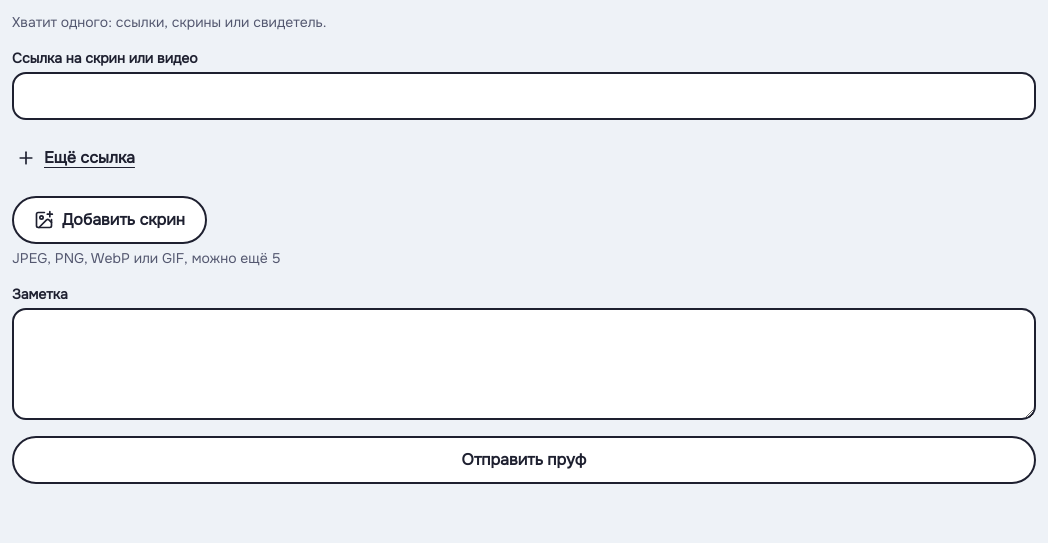
Test case: Screenshots in the proof › still asks for a link, a screenshot or a witness when nothing is given
Click the button with test id "proof-submit" at (524, 460), box [12, 436, 1036, 484]
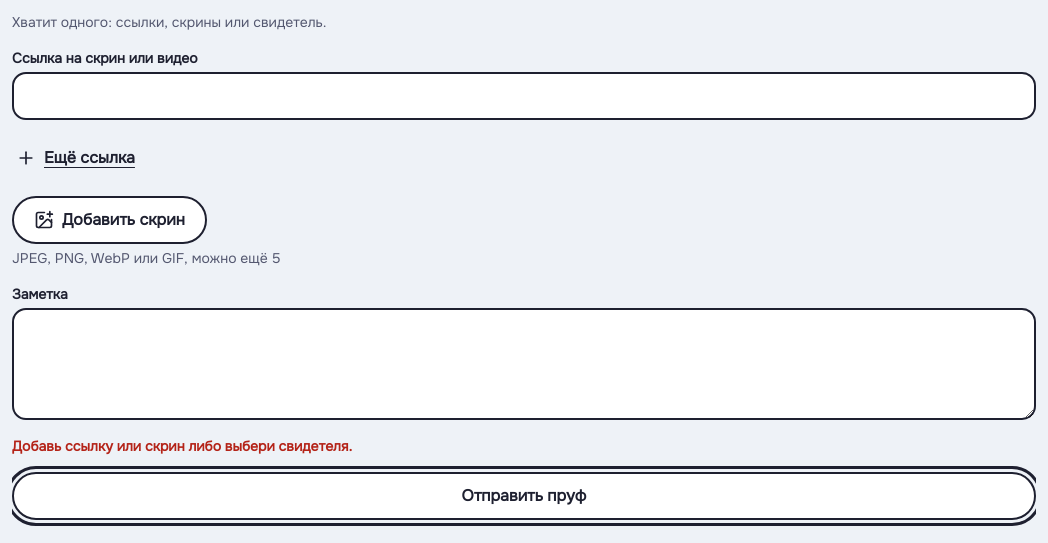
Expected: the message reads "Добавь ссылку или скрин либо выбери свидетеля.", [12, 437, 352, 455]
